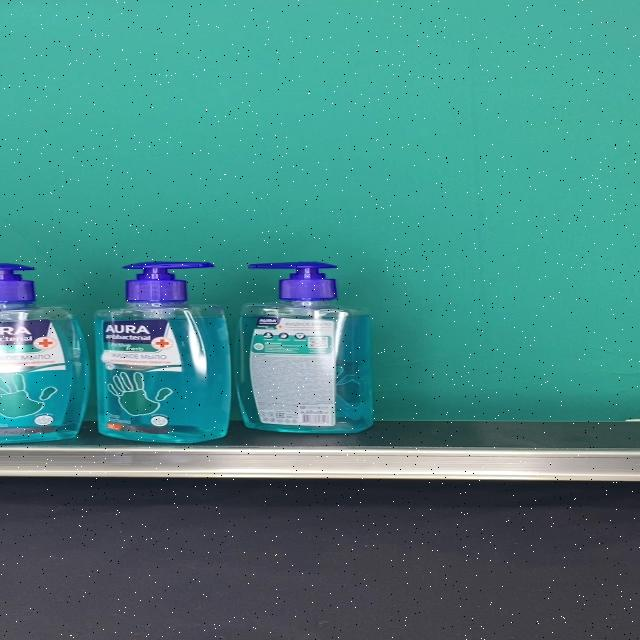Bottle: (94, 260, 230, 442), (233, 261, 374, 434)
Cap: (122, 261, 218, 302), (248, 261, 338, 301)
